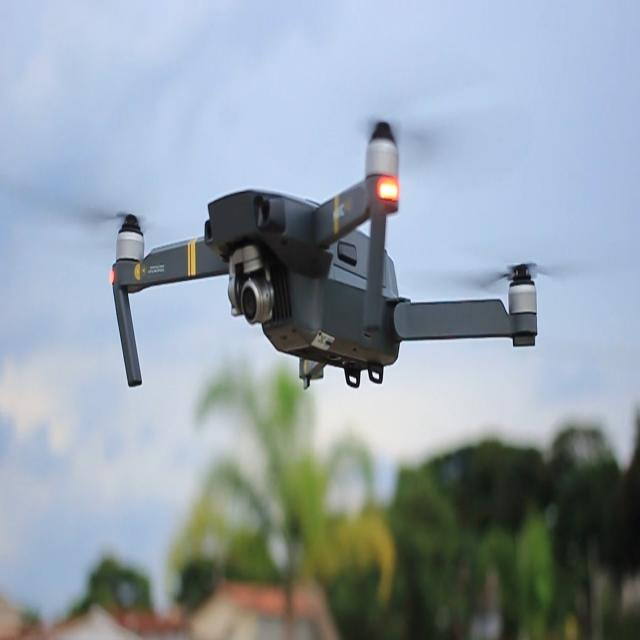Drone: (107, 116, 532, 386)
